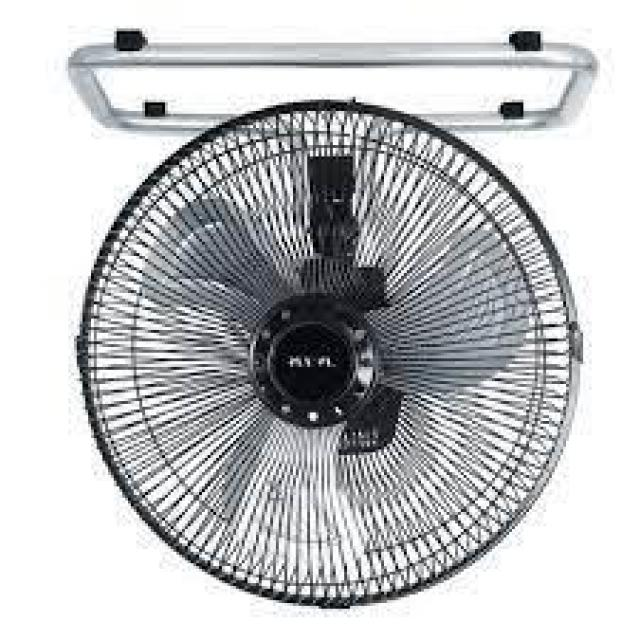fan: (56, 20, 606, 608)
